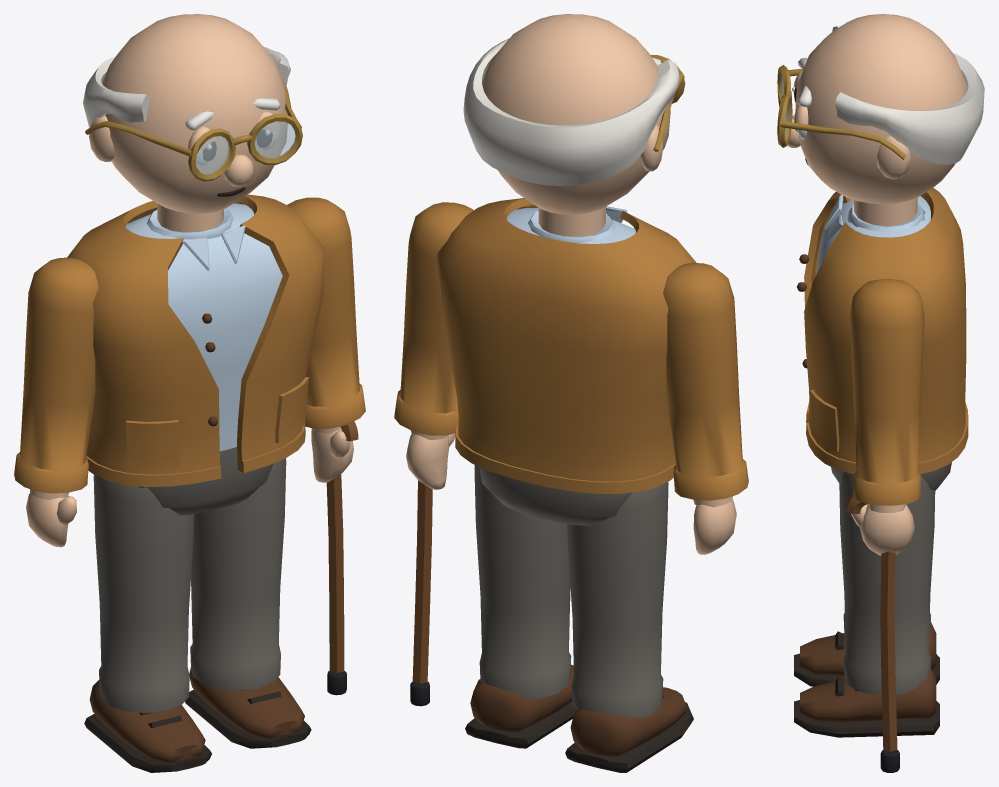
File: Character_Regular_walt.fbx
The picture shows the model from 3 angles, left to right: view 1: azimuth 30°, elevation 25°; view 2: azimuth 150°, elevation 25°; view 3: azimuth 270°, elevation 25°; orthographic projection. The views are drawn at different scales.
Visible parts, largest first — view 1: Cardigan, Head, LegR, LegL, ArmR, Torso, ArmL, LegR_Shoe, LegL_Shoe, Hips, Cane, Frame (+8 smaller); view 2: Cardigan, Head, LegR, LegL, ArmR, Hair, ArmL, Hips, LegR_Shoe, LegL_Shoe, Cane, LegR_Sole (+4 smaller); view 3: Cardigan, Head, ArmL, LegL, Hair, LegL_Shoe, Cane, HandL, LegL_Sole, Frame, Torso, LegR_Shoe (+4 smaller).
Boxes of the visible parts, x1,y1,x2,y2 form: Cardigan: (67,194,324,486); Head: (89,14,287,232); LegR: (93,475,193,713); LegL: (190,458,286,690); ArmR: (14,257,98,493); Torso: (125,203,282,451); ArmL: (287,197,365,428); LegR_Shoe: (89,680,205,762); LegL_Shoe: (189,667,304,738); Hips: (139,447,273,515); Cane: (326,420,358,672); Frame: (85,81,302,181); Cardigan: (437,198,696,493); Head: (482,14,670,236); LegR: (567,482,668,717); LegL: (474,465,571,698); ArmR: (663,263,748,500); Hair: (463,38,680,185); ArmL: (394,202,473,435); Hips: (479,467,631,525); LegR_Shoe: (570,687,687,756); LegL_Shoe: (470,664,573,732); Cane: (412,480,432,683); LegR_Sole: (565,694,693,772); Cardigan: (804,187,968,474); Head: (787,14,967,226); ArmL: (850,279,924,505); LegL: (839,471,935,694); Hair: (832,25,984,164); LegL_Shoe: (800,668,936,721); Cane: (846,494,897,751); HandL: (851,504,914,555); LegL_Sole: (794,677,939,737); Frame: (777,65,906,159); Torso: (816,196,930,274); LegR_Shoe: (800,622,936,675).
Size of the model in its own units: 253 by 505 by 140.
